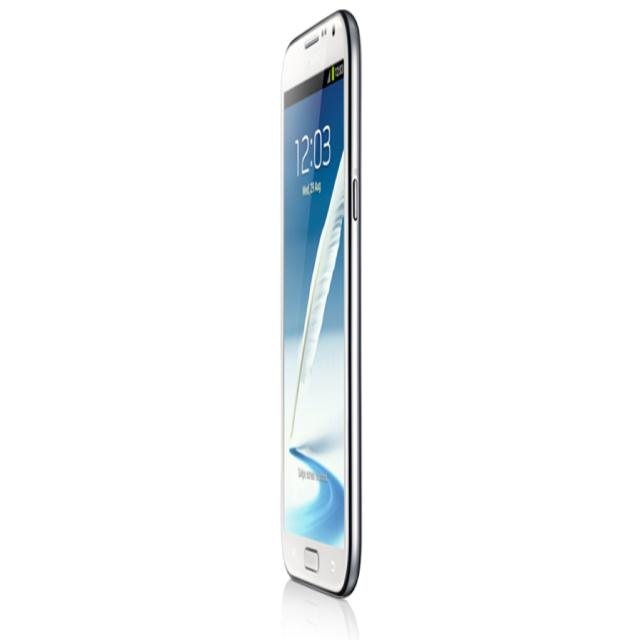Mobile-phone: (280, 8, 360, 600)
